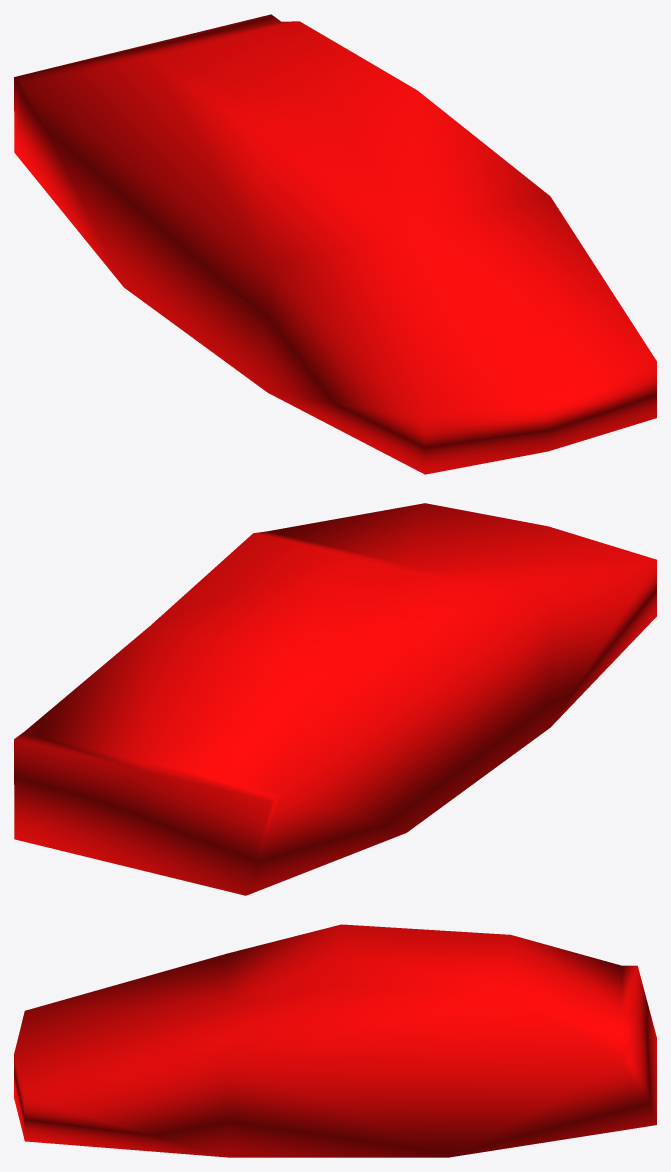
The model's file is car_0008_collider.fbx.
3 views of the same model, one above another, from view 1: azimuth 30°, elevation 25°; view 2: azimuth 150°, elevation 25°; view 3: azimuth 270°, elevation 25° (orthographic). The views are drawn at different scales.
Visible parts, largest first — view 1: Mesh; view 2: Mesh; view 3: Mesh.
Boxes of the visible parts, x1,y1,x2,y2 form: Mesh: [14, 14, 656, 474]; Mesh: [14, 503, 656, 895]; Mesh: [14, 924, 656, 1157].
Bounding box in the file's own units: 191 × 125 × 490.
